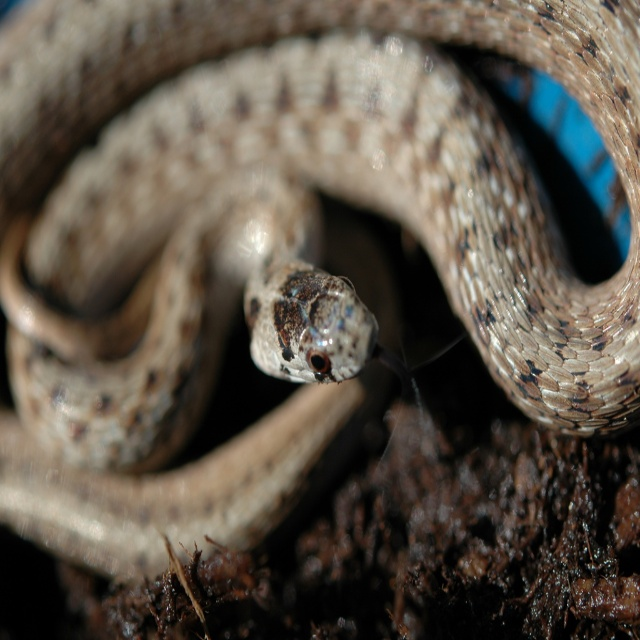Snake: (0, 0, 640, 587)
